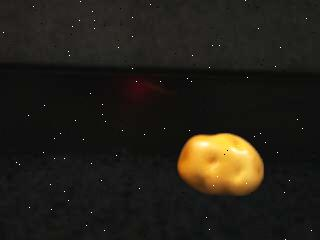Potato: (176, 130, 268, 200)
